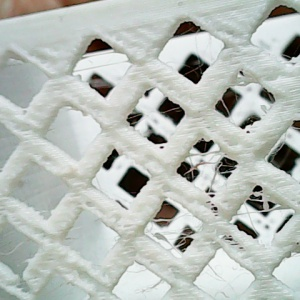3dpstringing: (173, 137, 243, 197), (229, 184, 295, 245), (145, 204, 208, 257), (112, 266, 177, 298), (60, 214, 109, 255), (68, 50, 137, 79), (201, 261, 250, 299), (127, 104, 186, 131), (215, 94, 256, 129), (1, 231, 35, 266)
3dpunderextrusion: (70, 189, 136, 236)
